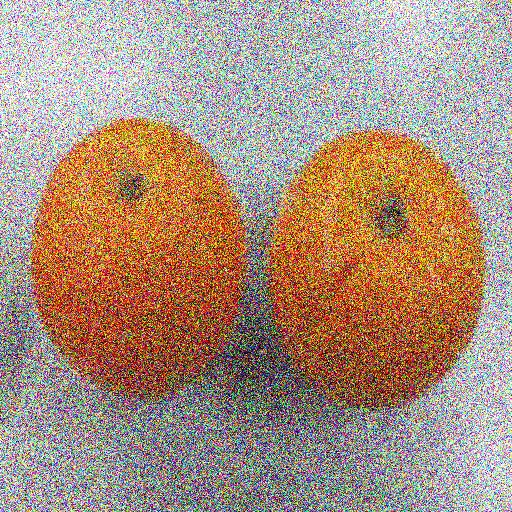fruit: (104, 134, 382, 460), (460, 148, 500, 484)
